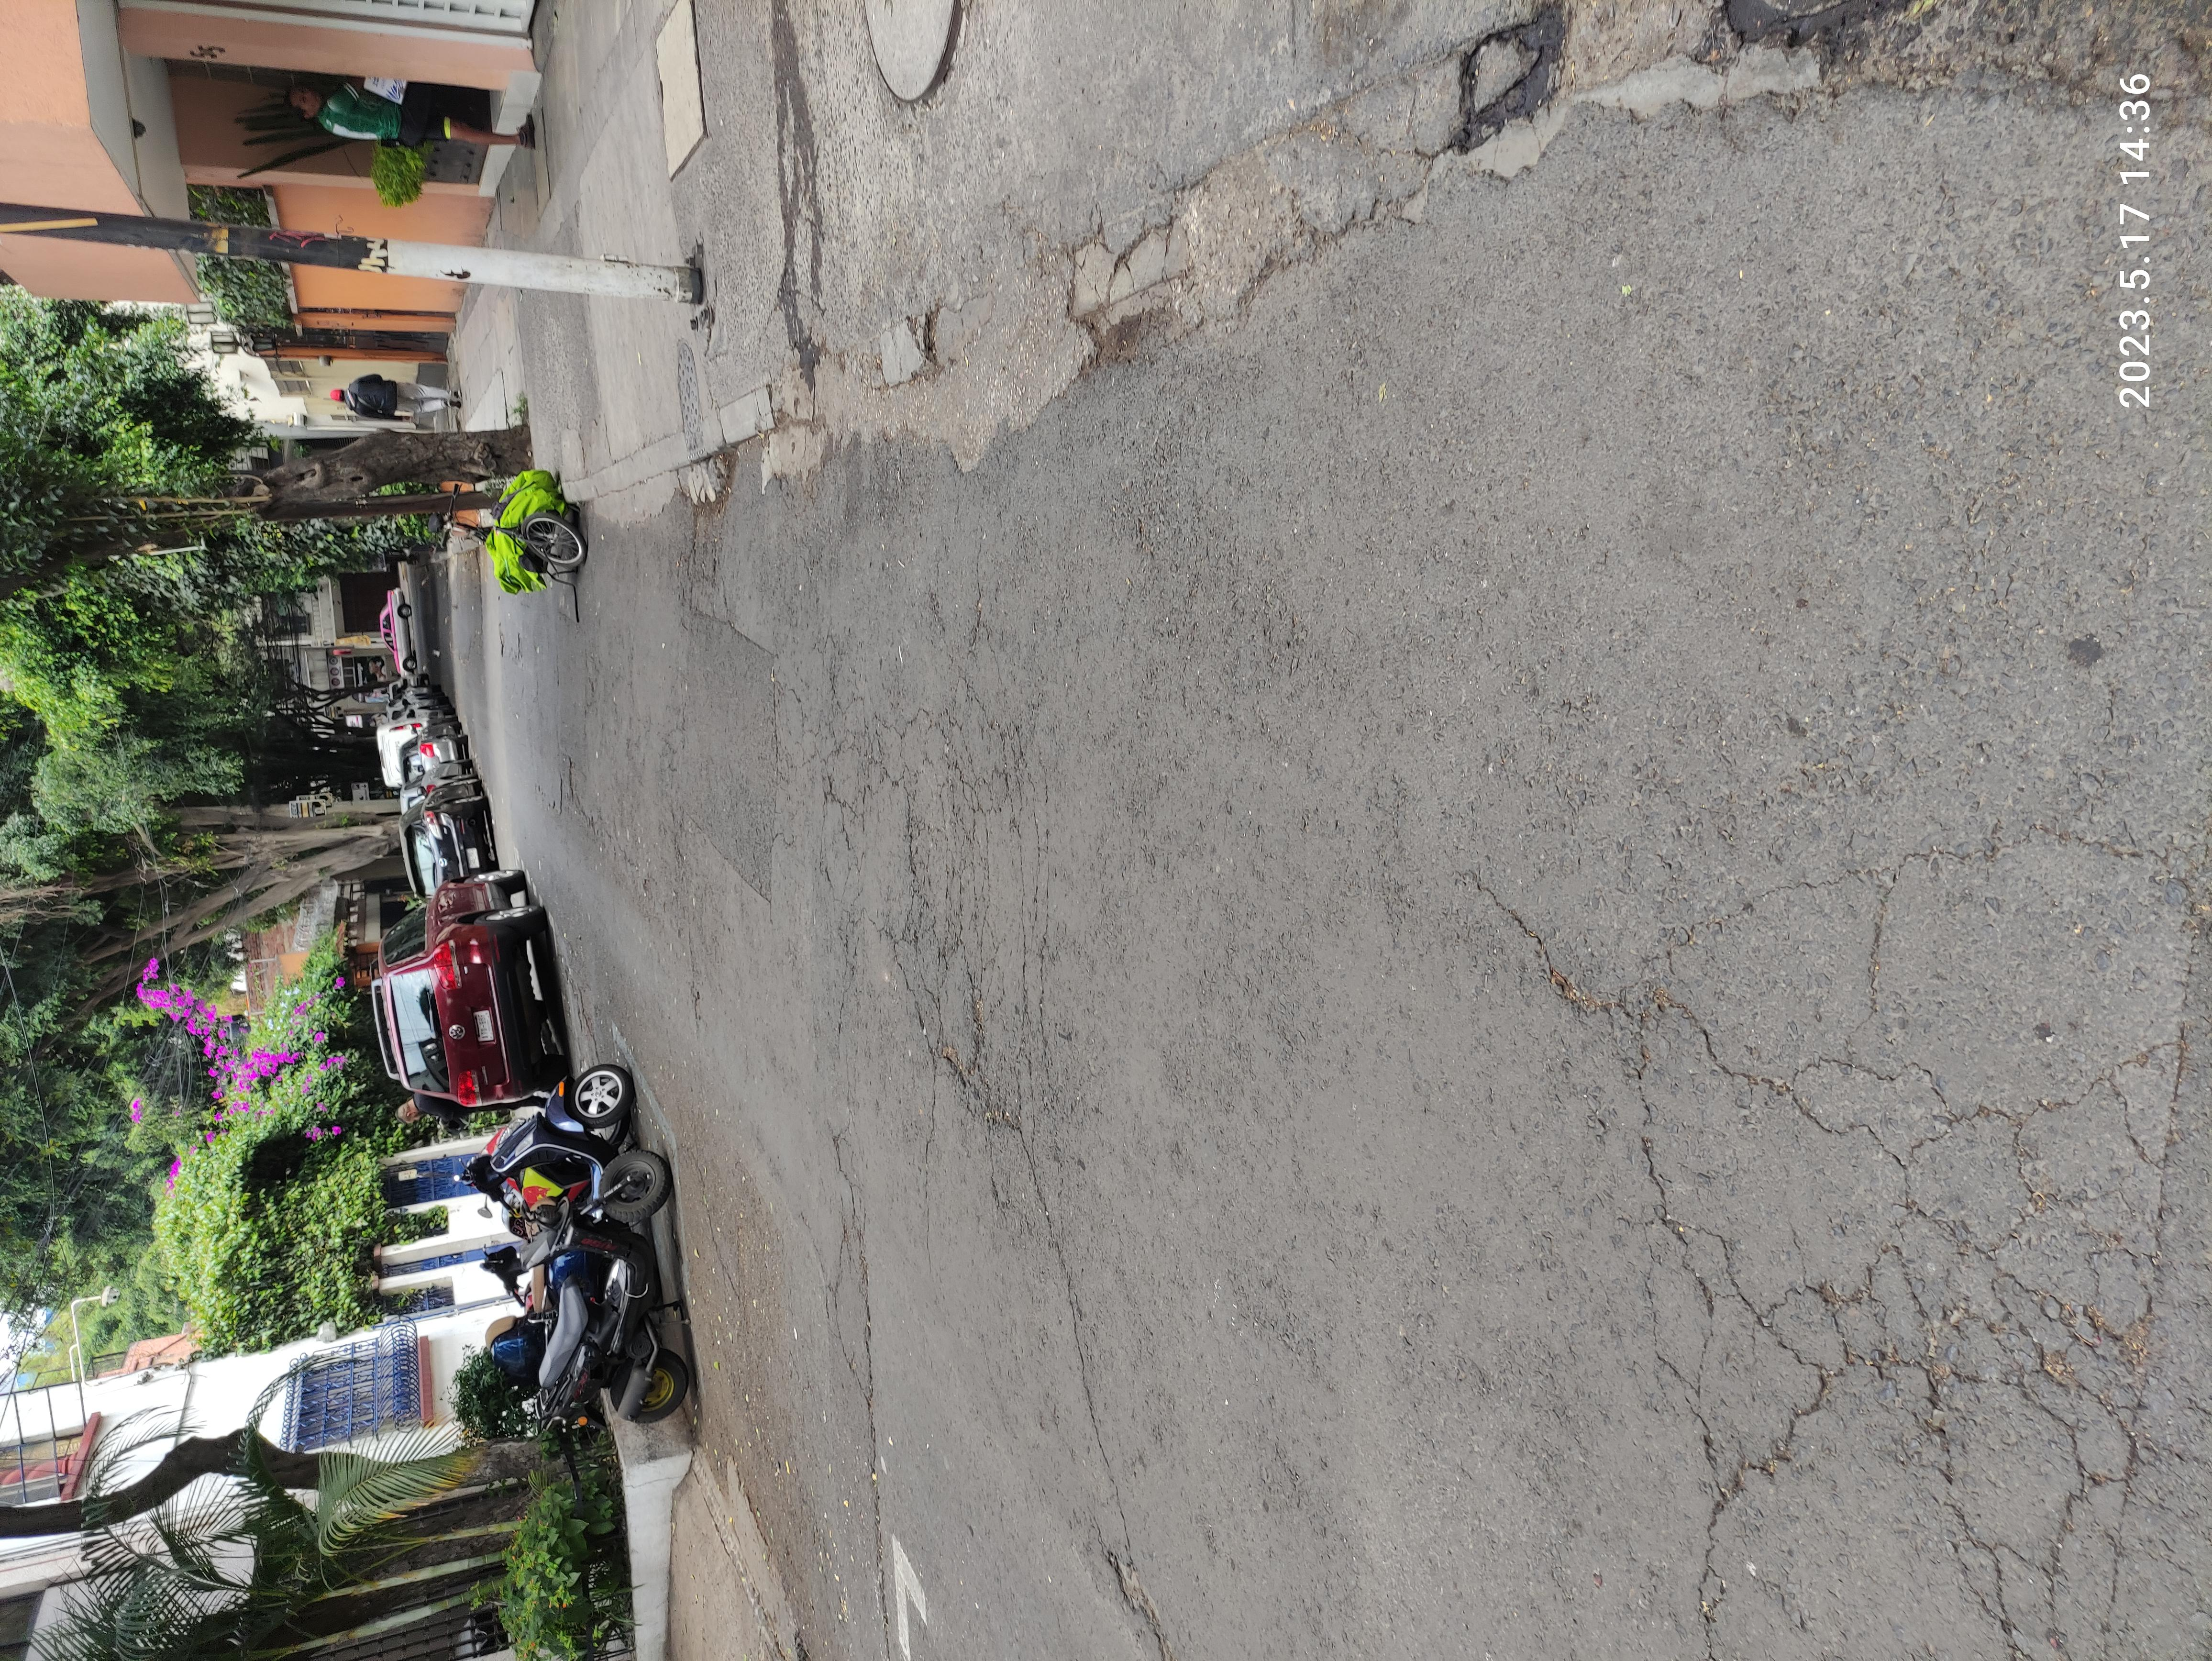alligator-crack: (0, 1117, 1092, 1661)
crack: (665, 626, 1137, 818)
